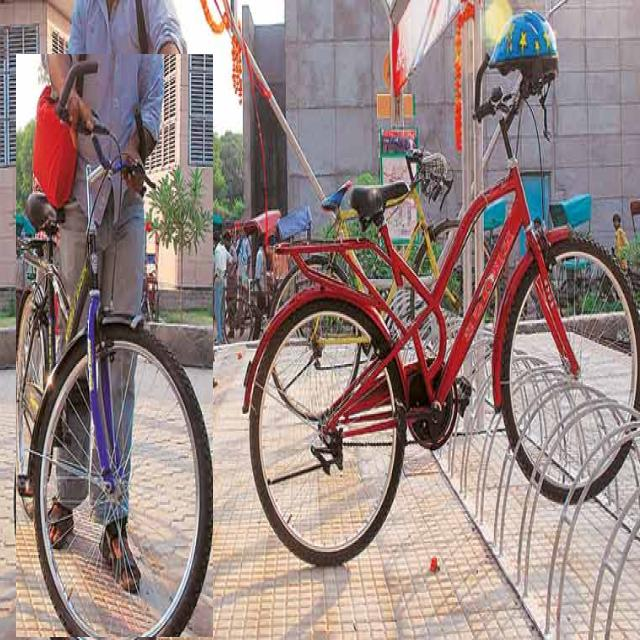bicycle: (244, 13, 640, 563), (16, 54, 212, 637)
